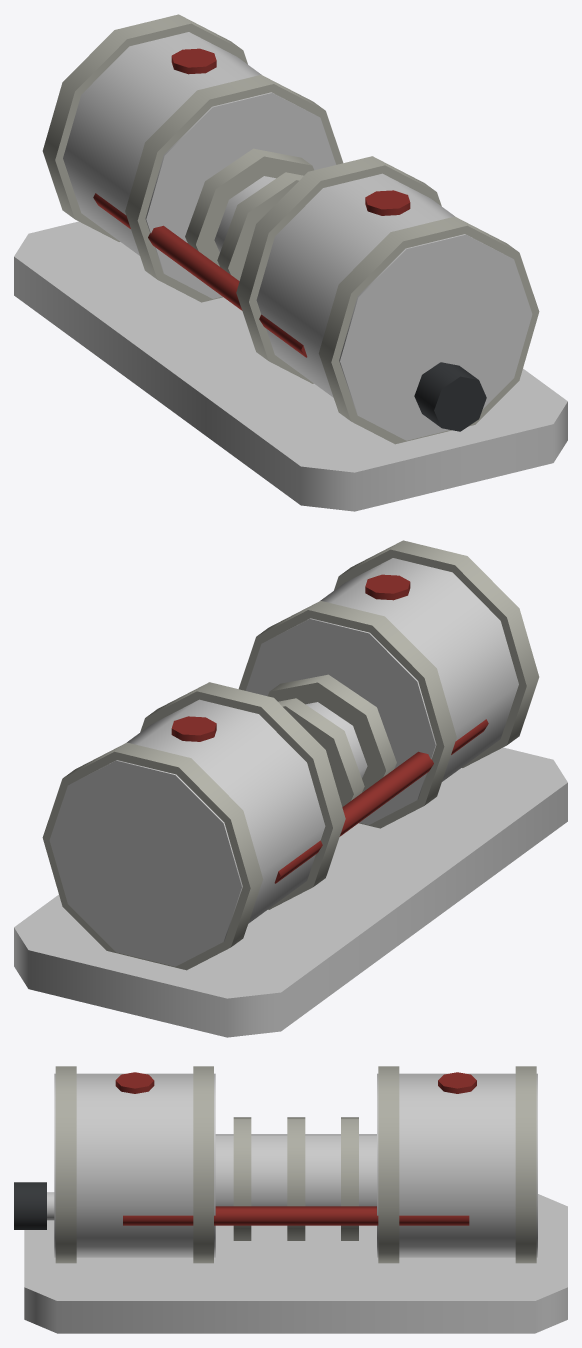
Rendered from hemopump.obj.
3 renders of one model, top to bottom at view 1: azimuth 30°, elevation 25°; view 2: azimuth 150°, elevation 25°; view 3: azimuth 270°, elevation 25°, orthographic. The views are drawn at different scales.
Parts seen in each view (by area): view 1: source_component_000, source_component_001, source_component_005, source_component_002, source_component_006, source_component_007, source_component_003, source_component_012, source_component_015, source_component_013, source_component_011, source_component_004 (+2 smaller); view 2: source_component_000, source_component_005, source_component_001, source_component_007, source_component_003, source_component_002, source_component_006, source_component_010, source_component_013, source_component_011, source_component_008, source_component_004 (+1 smaller); view 3: source_component_000, source_component_001, source_component_005, source_component_009, source_component_014, source_component_002, source_component_006, source_component_007, source_component_003, source_component_011, source_component_010, source_component_012 (+3 smaller).
Boxes of the visible parts, bbox=[...] form: source_component_000: bbox=[14, 221, 567, 511]; source_component_001: bbox=[256, 173, 532, 440]; source_component_005: bbox=[63, 32, 336, 298]; source_component_002: bbox=[318, 216, 539, 444]; source_component_006: bbox=[125, 75, 343, 302]; source_component_007: bbox=[42, 14, 247, 241]; source_component_003: bbox=[236, 156, 441, 383]; source_component_012: bbox=[185, 148, 313, 266]; source_component_015: bbox=[414, 362, 486, 431]; source_component_013: bbox=[93, 193, 307, 357]; source_component_011: bbox=[217, 172, 303, 280]; source_component_004: bbox=[365, 190, 410, 215]; source_component_000: bbox=[14, 747, 567, 1037]; source_component_005: bbox=[49, 699, 325, 966]; source_component_001: bbox=[245, 558, 518, 824]; source_component_007: bbox=[42, 742, 263, 970]; source_component_003: bbox=[238, 601, 456, 828]; source_component_002: bbox=[334, 540, 539, 767]; source_component_006: bbox=[140, 682, 345, 909]; source_component_010: bbox=[268, 674, 396, 792]; source_component_013: bbox=[274, 719, 488, 883]; source_component_011: bbox=[278, 698, 364, 806]; source_component_008: bbox=[171, 716, 216, 741]; source_component_004: bbox=[365, 574, 410, 600]; source_component_000: bbox=[24, 1194, 567, 1333]; source_component_001: bbox=[54, 1073, 215, 1257]; source_component_005: bbox=[377, 1073, 537, 1257]; source_component_009: bbox=[215, 1134, 376, 1206]; source_component_014: bbox=[123, 1206, 469, 1225]; source_component_002: bbox=[55, 1066, 76, 1263]; source_component_006: bbox=[378, 1066, 399, 1263]; source_component_007: bbox=[515, 1066, 536, 1263]; source_component_003: bbox=[193, 1066, 213, 1263]; source_component_011: bbox=[287, 1117, 305, 1240]; source_component_010: bbox=[233, 1117, 251, 1240]; source_component_012: bbox=[341, 1117, 358, 1240].
Size of the model in its own units: 0.86 by 0.7386 by 1.86.
